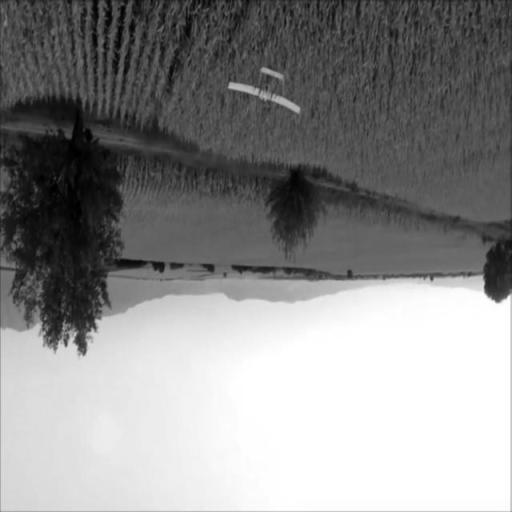uav: (228, 66, 302, 116)
